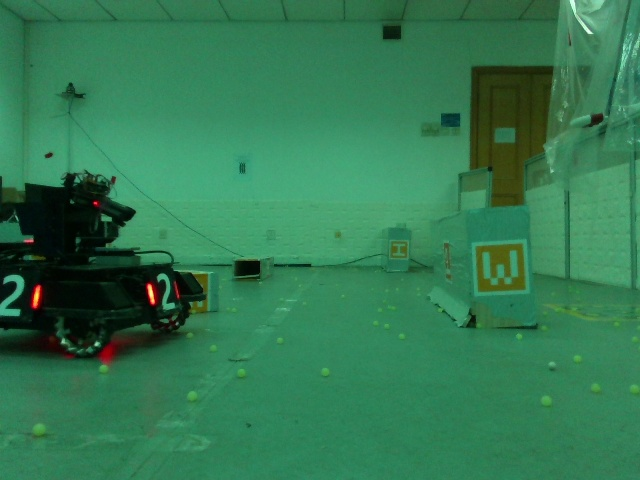Robot_Red: (1, 167, 211, 364)
armor_Red: (1, 274, 41, 317), (146, 272, 180, 311)
